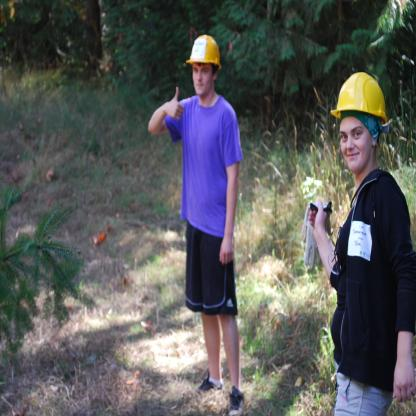Helmet: (338, 72, 386, 152), (185, 33, 222, 70)
